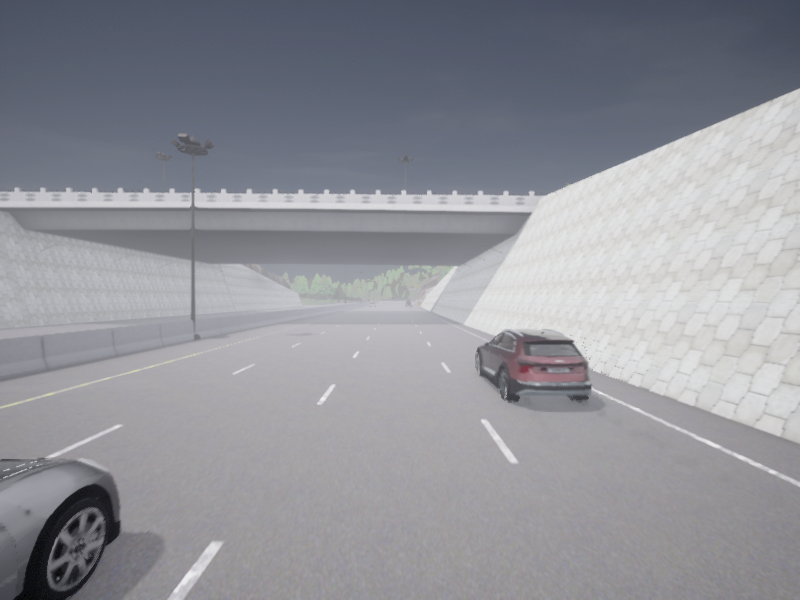vehicle: (0, 458, 119, 599), (476, 329, 591, 401), (405, 301, 411, 307), (370, 302, 375, 306)
